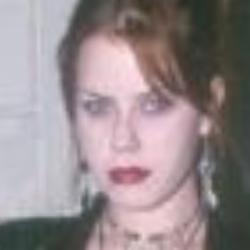face: (48, 1, 247, 221)
